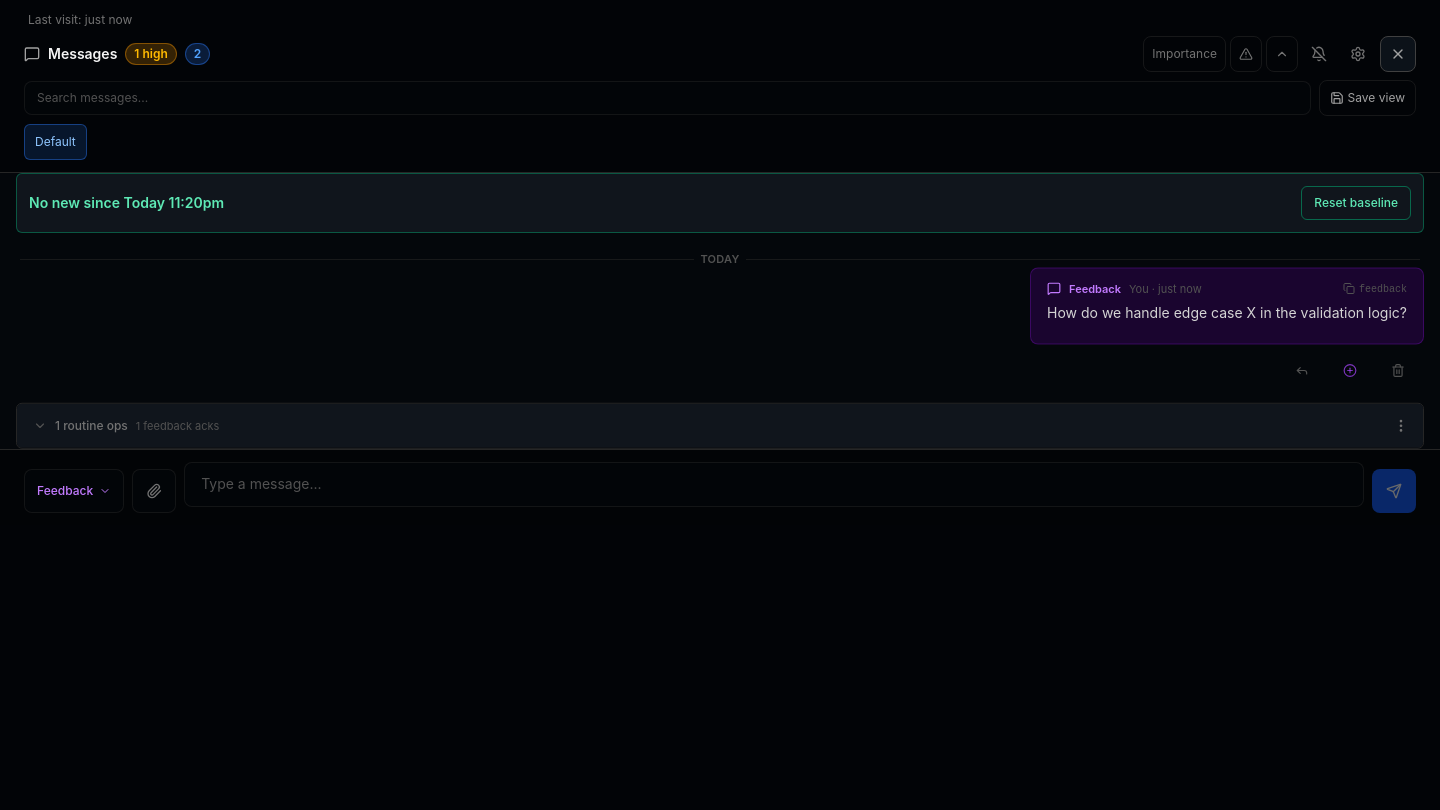
Scenario: MessagesPanel feedback acknowledgment reply context › renders reply context label and original feedback excerpt for feedback_acknowledgment NOTE
Click the button "1 routine ops 1 feedback acks": (94, 425) top-left (17, 408), bottom-right (1379, 444)
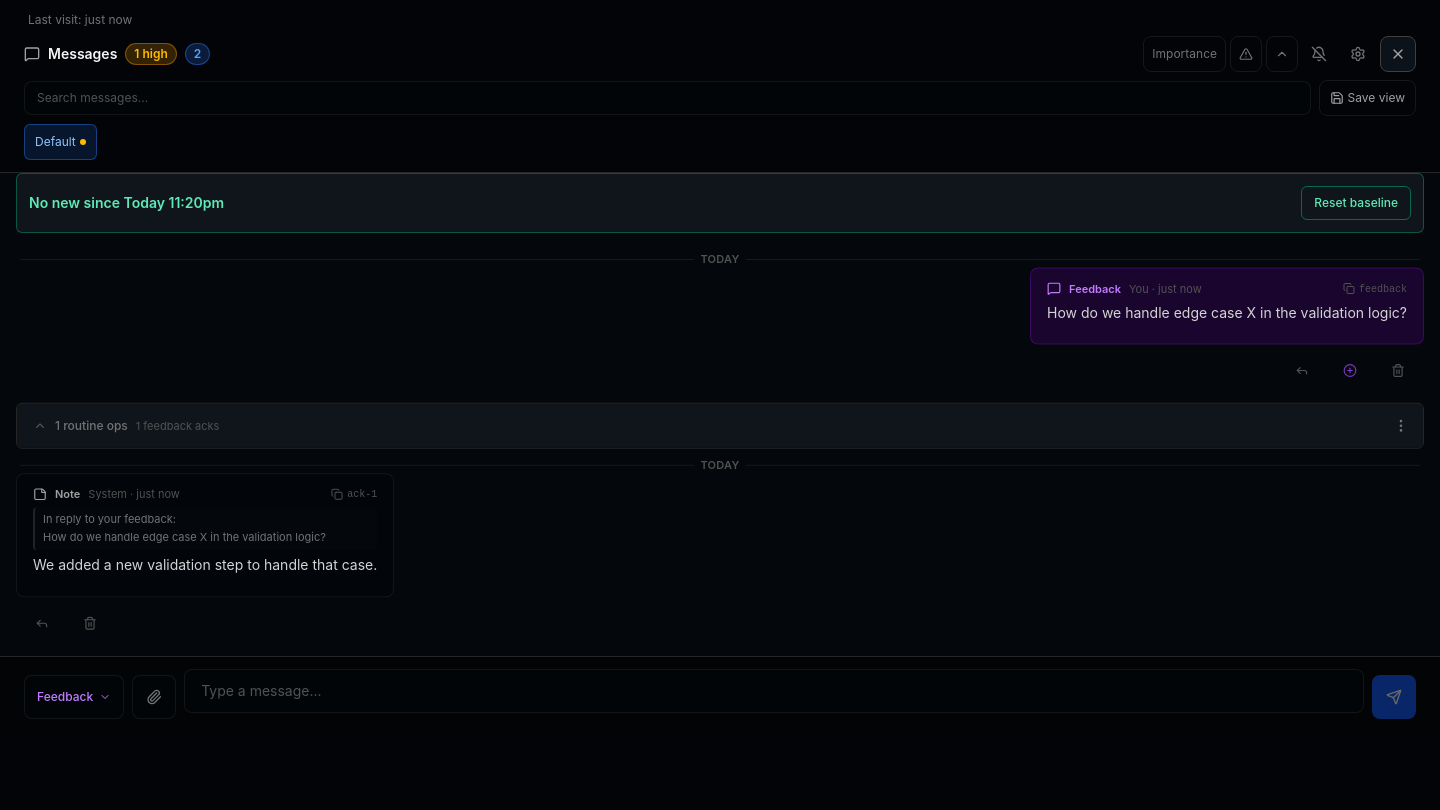
Check: the text "How do we handle edge case X" is shown, box top-left (1047, 303), bottom-right (1407, 320)
Check: the text "In reply to your feedback:" is shown, box top-left (43, 512), bottom-right (176, 526)
Check: the text "We added a new validation step" is shown, box top-left (33, 556), bottom-right (377, 573)
